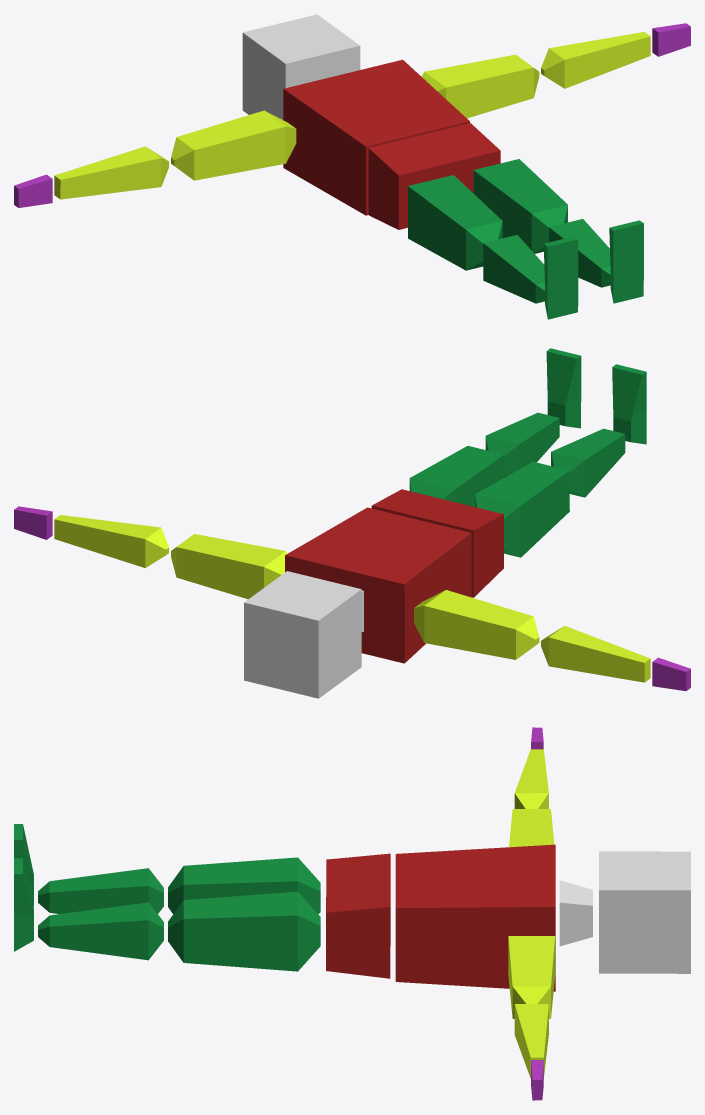
Rendered from robot.dae.
The picture shows the model from 3 angles, top to bottom: view 1: azimuth 30°, elevation 25°; view 2: azimuth 150°, elevation 25°; view 3: azimuth 270°, elevation 25°; orthographic projection. The views are drawn at different scales.
Visible parts, largest first — view 1: Torso, Head, Waist, RightThigh, RightShoulder, LeftThigh, LeftShoulder, RightArm, LeftArm, RightCalve, RightFoot, LeftFoot (+3 smaller); view 2: Torso, Head, RightShoulder, RightThigh, LeftShoulder, Waist, LeftArm, RightArm, LeftThigh, RightCalve, LeftCalve, LeftFoot (+3 smaller); view 3: Torso, Head, LeftThigh, Waist, LeftCalve, RightThigh, RightCalve, LeftShoulder, Neck, LeftArm, RightArm, RightShoulder (+2 smaller).
Part boxes in pixels (x1,y1,x2,y2): Torso: (283, 59, 469, 215); Head: (242, 14, 360, 119); Waist: (368, 123, 500, 229); RightThigh: (408, 175, 502, 270); RightShoulder: (171, 110, 296, 180); LeftThigh: (473, 159, 567, 253); LeftShoulder: (421, 54, 539, 118); RightArm: (54, 146, 168, 199); LeftArm: (541, 32, 650, 88); RightCalve: (483, 235, 544, 303); RightFoot: (543, 236, 578, 319); LeftFoot: (609, 220, 643, 303); Torso: (285, 507, 471, 663); Head: (244, 571, 361, 698); RightShoulder: (414, 590, 539, 659); RightThigh: (475, 461, 569, 557); LeftShoulder: (171, 534, 287, 599); Waist: (371, 489, 503, 597); LeftArm: (54, 515, 168, 568); RightArm: (541, 626, 650, 682); LeftThigh: (409, 446, 504, 506); RightCalve: (551, 428, 625, 497); LeftCalve: (485, 412, 559, 477); LeftFoot: (546, 348, 581, 428); Torso: (395, 844, 555, 991); Head: (599, 851, 690, 973); LeftThigh: (168, 891, 320, 971); Waist: (326, 853, 390, 978); LeftCalve: (38, 902, 163, 960); RightThigh: (168, 857, 320, 914); RightCalve: (38, 868, 163, 913); LeftShoulder: (508, 936, 555, 1018); Neck: (559, 880, 592, 946); LeftArm: (514, 1004, 548, 1078); RightArm: (514, 749, 548, 808); RightShoulder: (509, 809, 554, 847).
Size of the model in its own units: 15.94 by 13 by 2.35.
